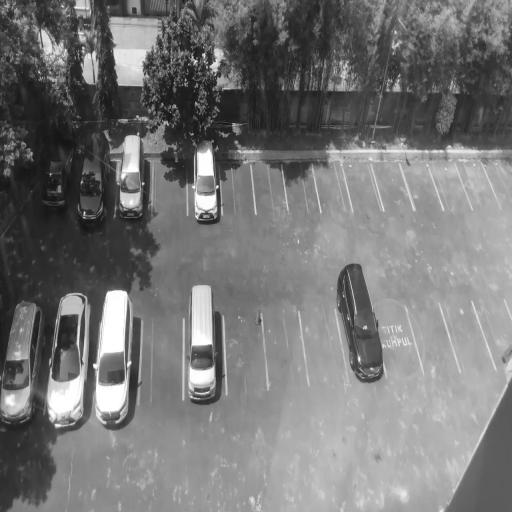Car: (331, 255, 389, 387), (41, 292, 95, 432), (87, 290, 139, 427), (0, 298, 50, 430), (187, 282, 219, 410), (74, 132, 114, 231), (37, 139, 81, 214), (192, 134, 223, 226), (116, 131, 147, 220)
Space Available: (440, 303, 497, 372), (406, 306, 461, 377), (138, 318, 183, 401), (261, 313, 310, 389), (299, 309, 346, 388), (223, 315, 268, 393), (377, 306, 423, 378), (473, 301, 511, 370), (457, 161, 501, 210), (219, 163, 257, 218), (282, 161, 321, 214), (344, 161, 384, 212), (400, 164, 444, 209), (429, 164, 474, 208), (373, 164, 415, 211), (251, 162, 288, 214), (153, 161, 187, 217), (313, 163, 351, 212), (483, 157, 512, 207)
